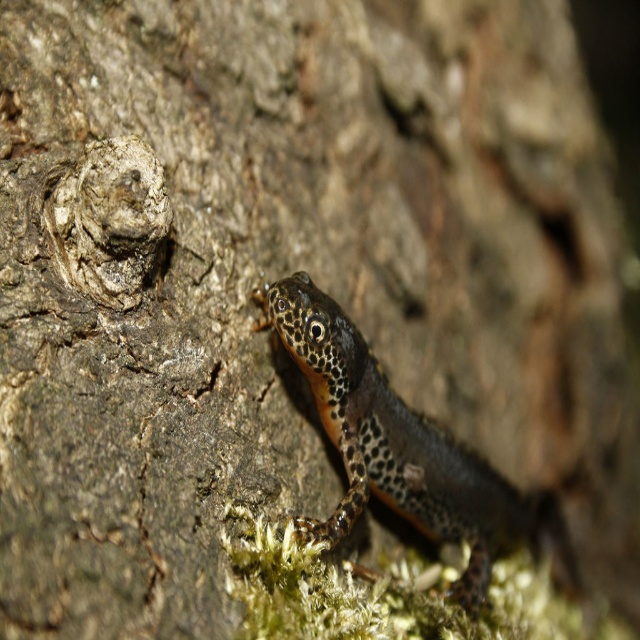Lizard: (275, 278, 542, 627)
